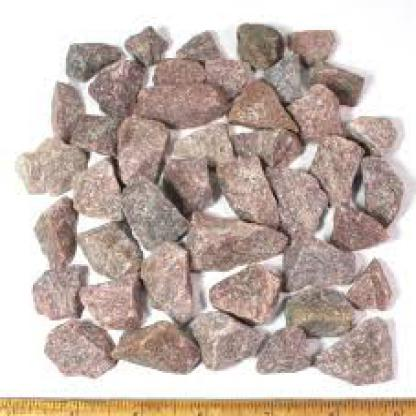Metamorphic_Quartize: (275, 225, 359, 296), (201, 152, 286, 221), (206, 257, 292, 322), (5, 131, 93, 193), (134, 75, 236, 126), (187, 214, 288, 260), (306, 124, 361, 206), (110, 114, 169, 186), (162, 131, 214, 204), (141, 238, 193, 307), (227, 81, 282, 146), (289, 79, 346, 133), (236, 13, 289, 71)
